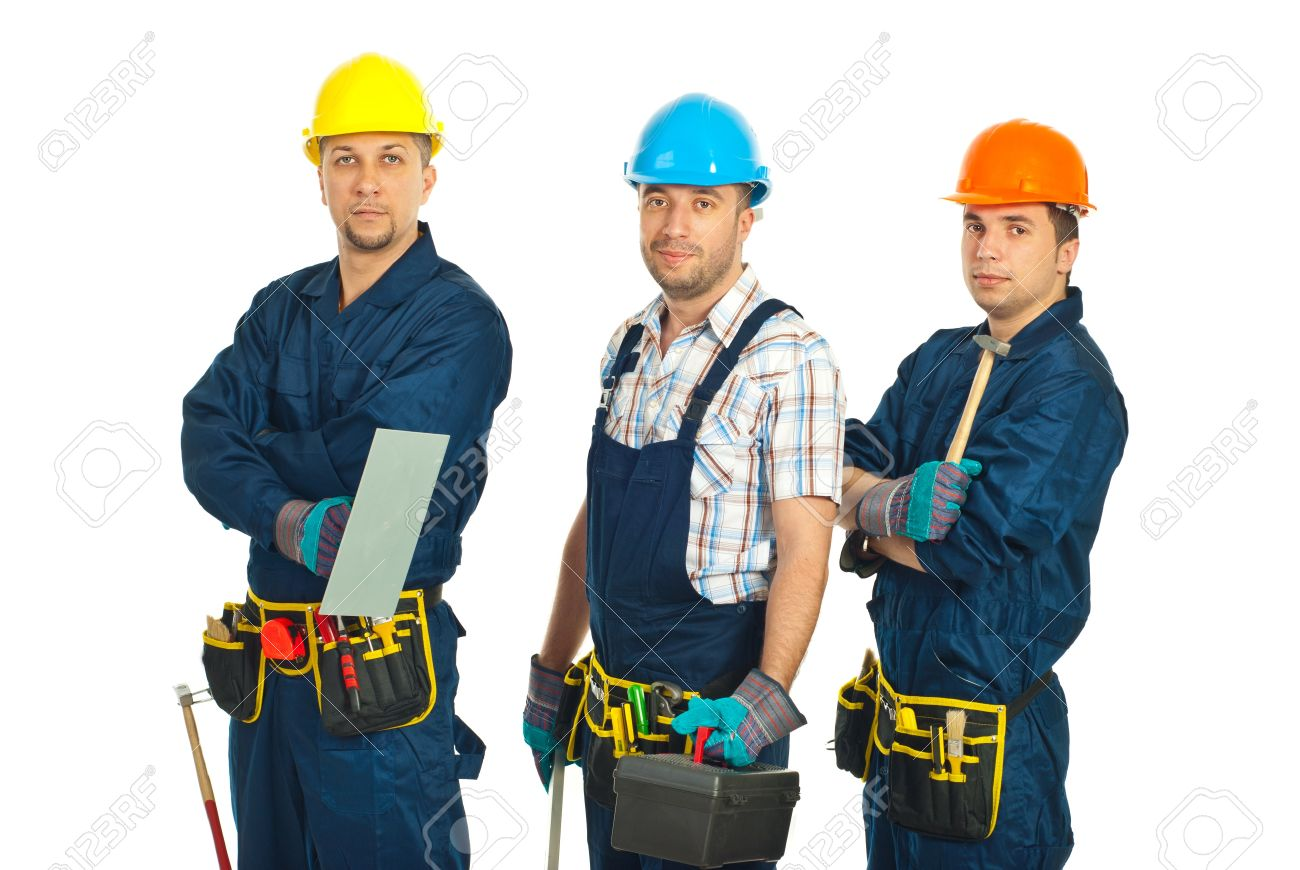casco: (617, 91, 774, 210), (933, 115, 1101, 221), (299, 50, 446, 168)
